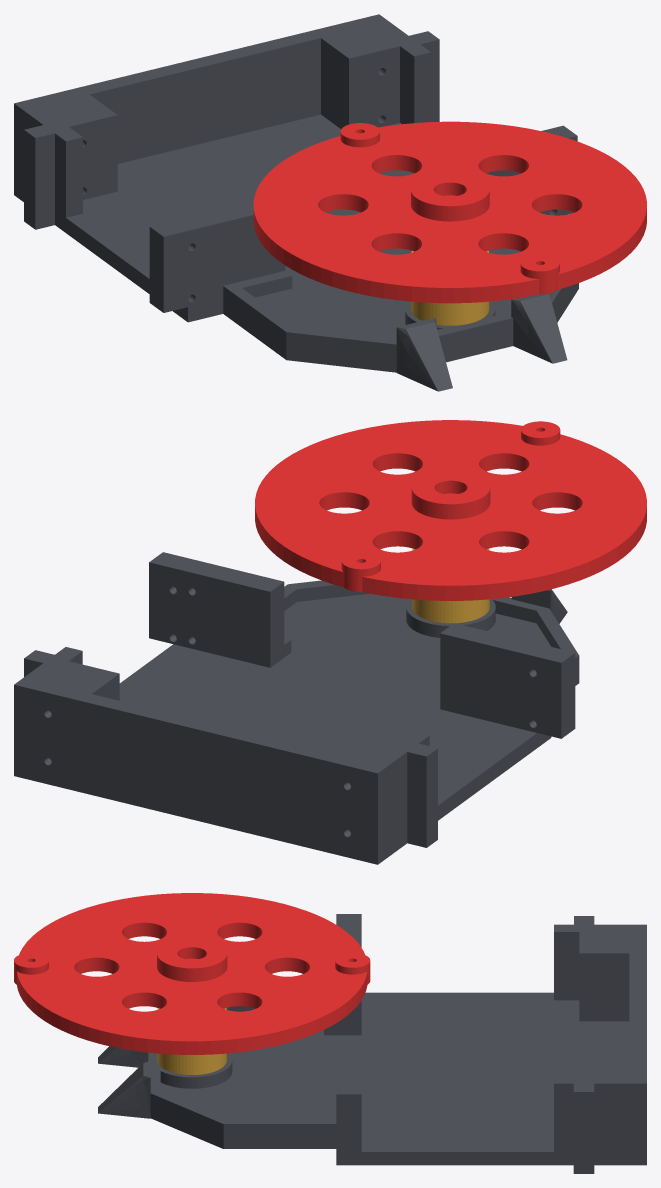
3 renders of one model, top to bottom at view 1: azimuth 30°, elevation 25°; view 2: azimuth 150°, elevation 25°; view 3: azimuth 270°, elevation 25°, orthographic. The views are drawn at different scales.
Parts seen in each view (by area): view 1: FC-03_0, FC-03_1, FC-03_2; view 2: FC-03_0, FC-03_1, FC-03_2; view 3: FC-03_0, FC-03_1, FC-03_2.
Boxes of the visible parts, <box> form: FC-03_0: <box>14,14,578,391</box>; FC-03_1: <box>253,121,646,303</box>; FC-03_2: <box>411,251,489,325</box>; FC-03_0: <box>14,552,579,864</box>; FC-03_1: <box>255,420,646,600</box>; FC-03_2: <box>412,548,489,623</box>; FC-03_0: <box>98,914,646,1173</box>; FC-03_1: <box>14,893,370,1054</box>; FC-03_2: <box>157,1008,226,1074</box>.
Size of the model in its own units: 170 by 58 by 252.
